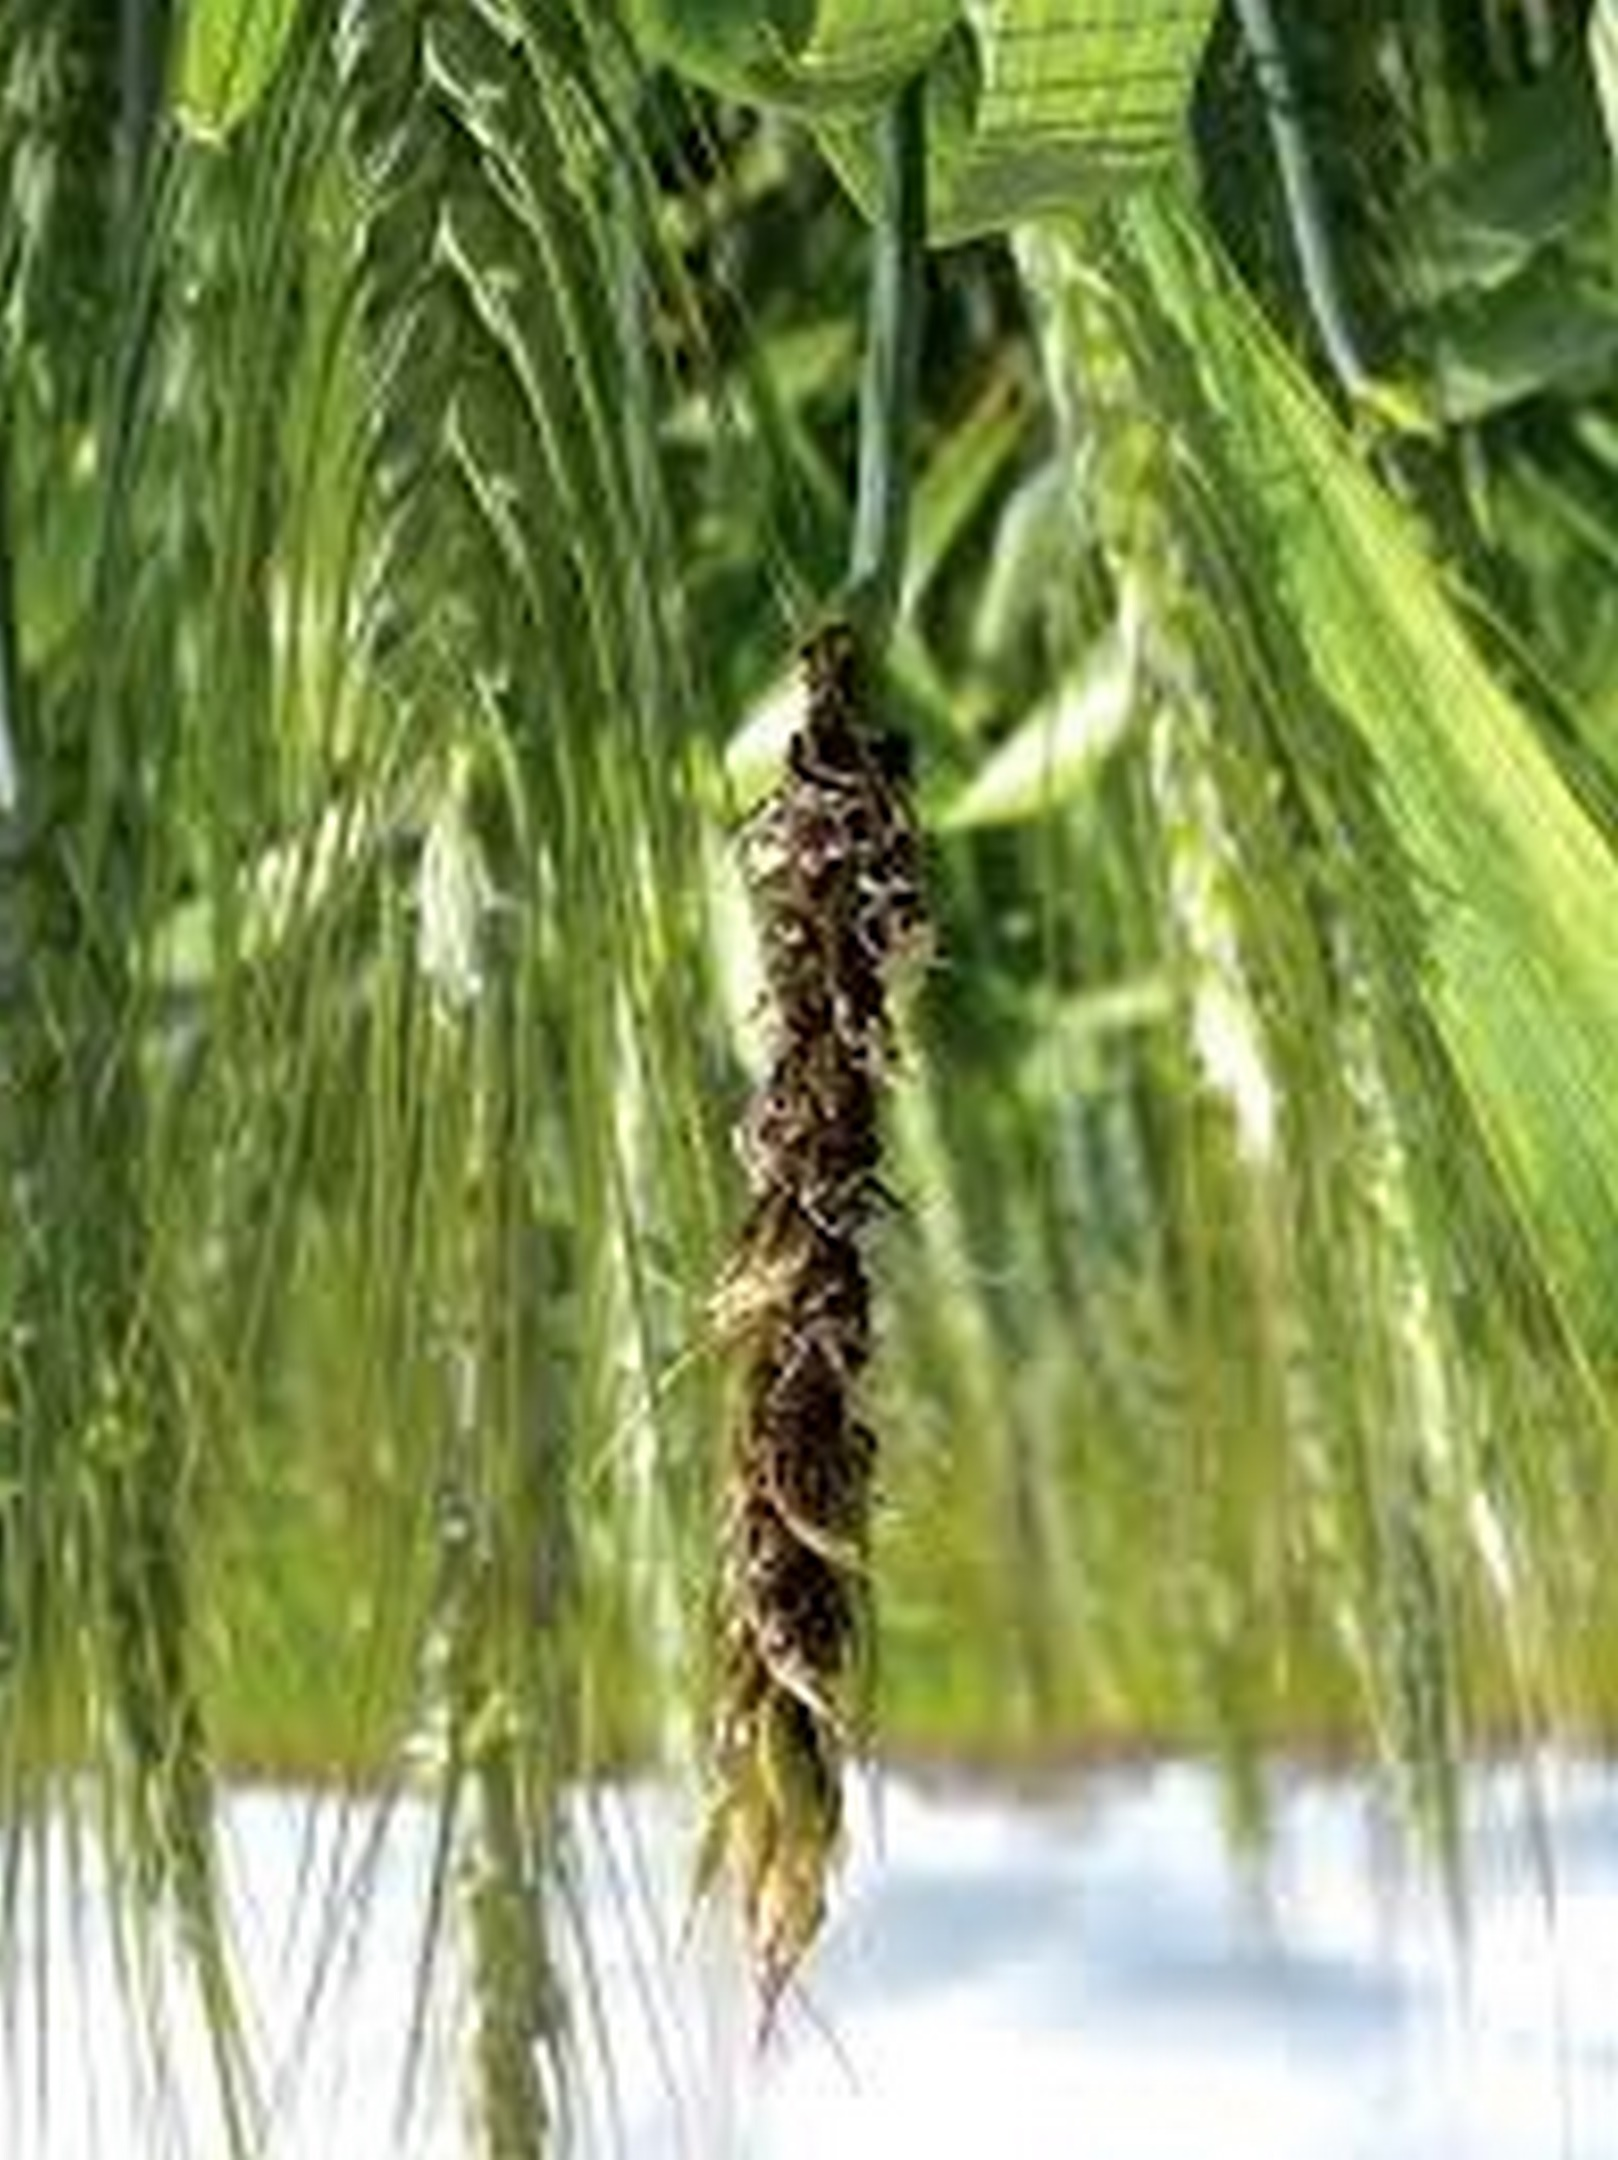Wheat Loose Smut: (666, 586, 965, 2009)
